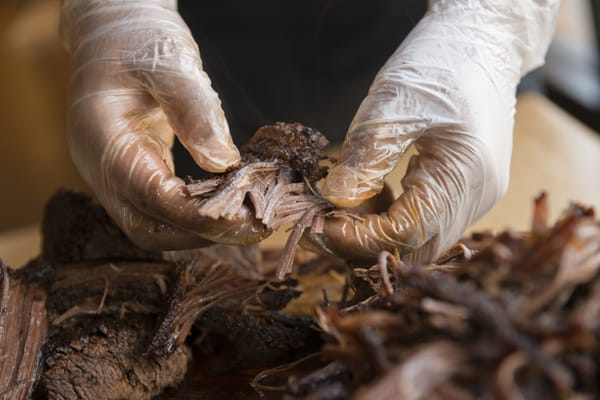sandwich: (306, 0, 561, 288), (188, 122, 335, 283)
